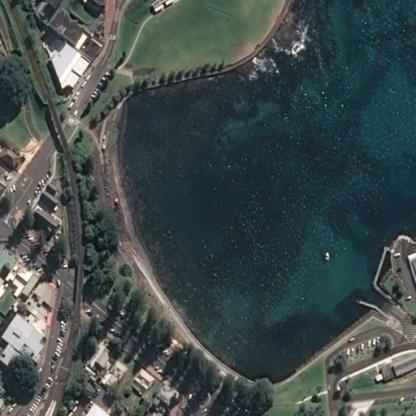ship: (319, 244, 334, 266)
